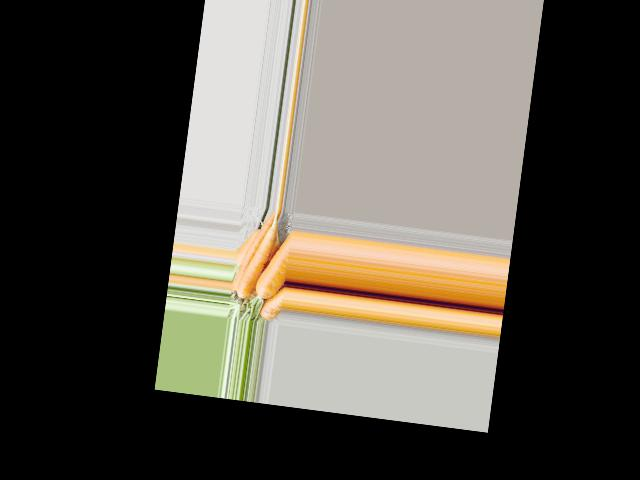carrot: (261, 277, 286, 307)
